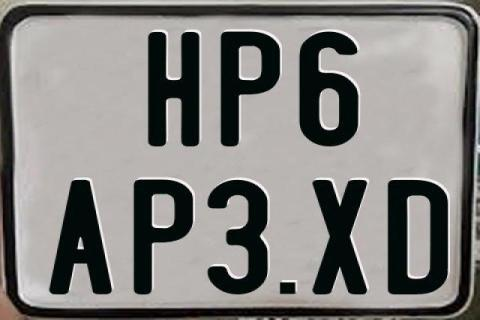0: (296, 31, 360, 151), (204, 180, 269, 298)
A: (46, 180, 111, 298)
D: (386, 180, 447, 295)
H: (147, 31, 202, 145)
P: (132, 177, 193, 295), (222, 29, 284, 144)
X: (311, 180, 369, 298)
